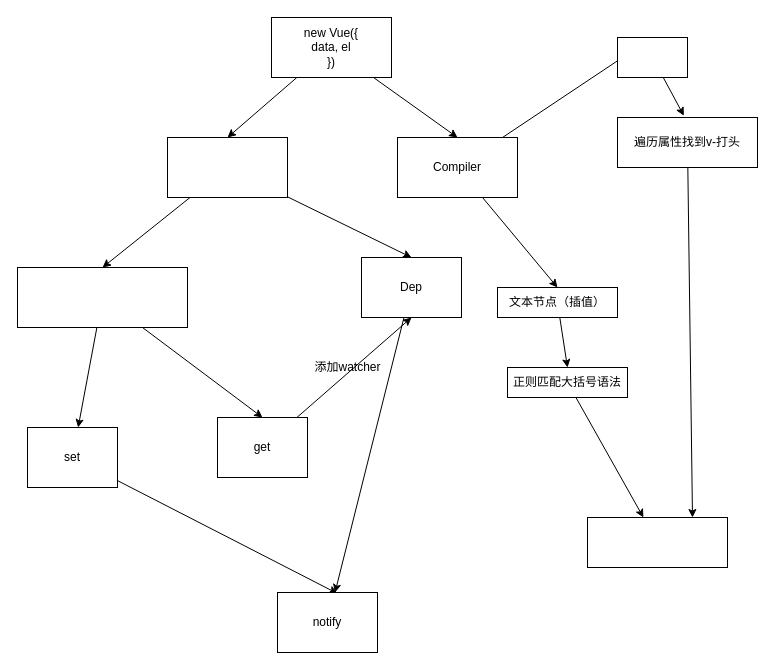
Image size: 775x670. Some labels were removed from this diagram. Here are the shapes that lost their labels. From the top down, the box of each, then its label:
(616, 36, 688, 78): 节点
(166, 136, 288, 198): Observer
(16, 266, 188, 328): DefineProperty(obj, key, options)
(586, 516, 728, 568): Vue utils
